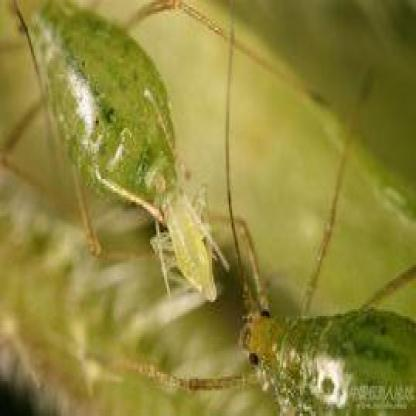aphid: (5, 0, 229, 249), (171, 221, 416, 415), (123, 148, 258, 314)
